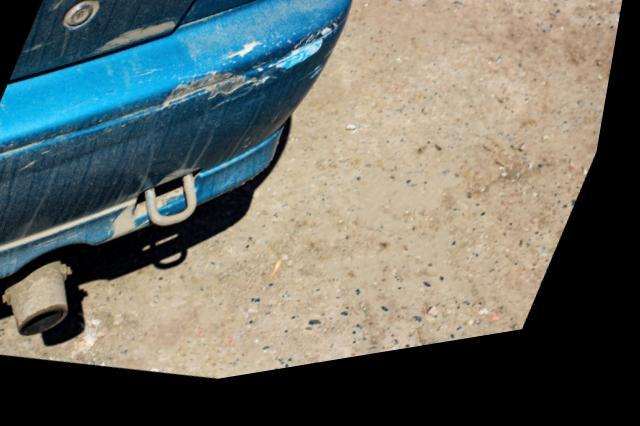scratch: (160, 34, 338, 116)
